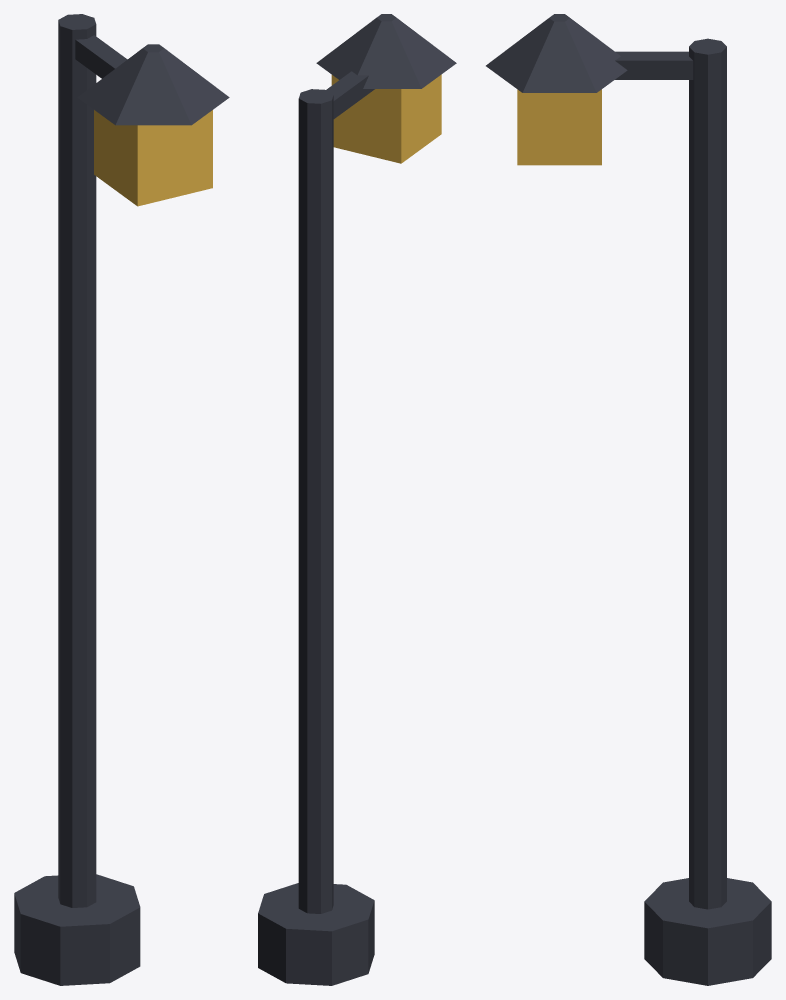
File: mdl_farola.fbx
3 renders of one model, left to right at view 1: azimuth 30°, elevation 25°; view 2: azimuth 150°, elevation 25°; view 3: azimuth 270°, elevation 25°, orthographic. The views are drawn at different scales.
Visible parts, largest first — view 1: mdl_farola; view 2: mdl_farola; view 3: mdl_farola.
Boxes of the visible parts, bbox=[...] form: mdl_farola: bbox=[14, 14, 229, 985]; mdl_farola: bbox=[258, 14, 456, 985]; mdl_farola: bbox=[486, 14, 771, 985].
Size of the model in its own units: 121 by 980 by 270.
